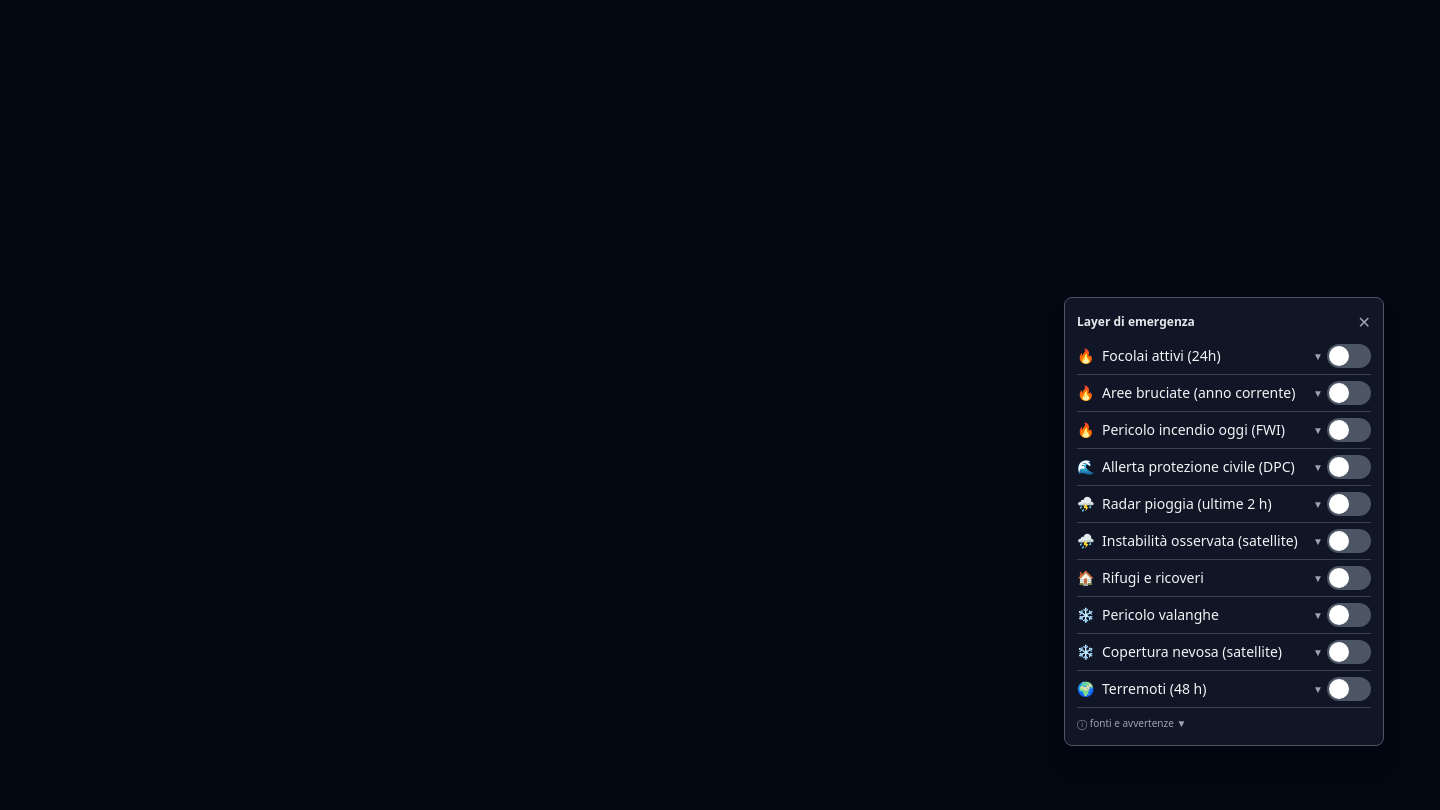
Scenario: EmergencyLayersPanel › footer mostra le fonti attive dei layer accesi
Click the switch named "Focolai attivi (24h)" at (1349,356), box [1327,344,1371,368]
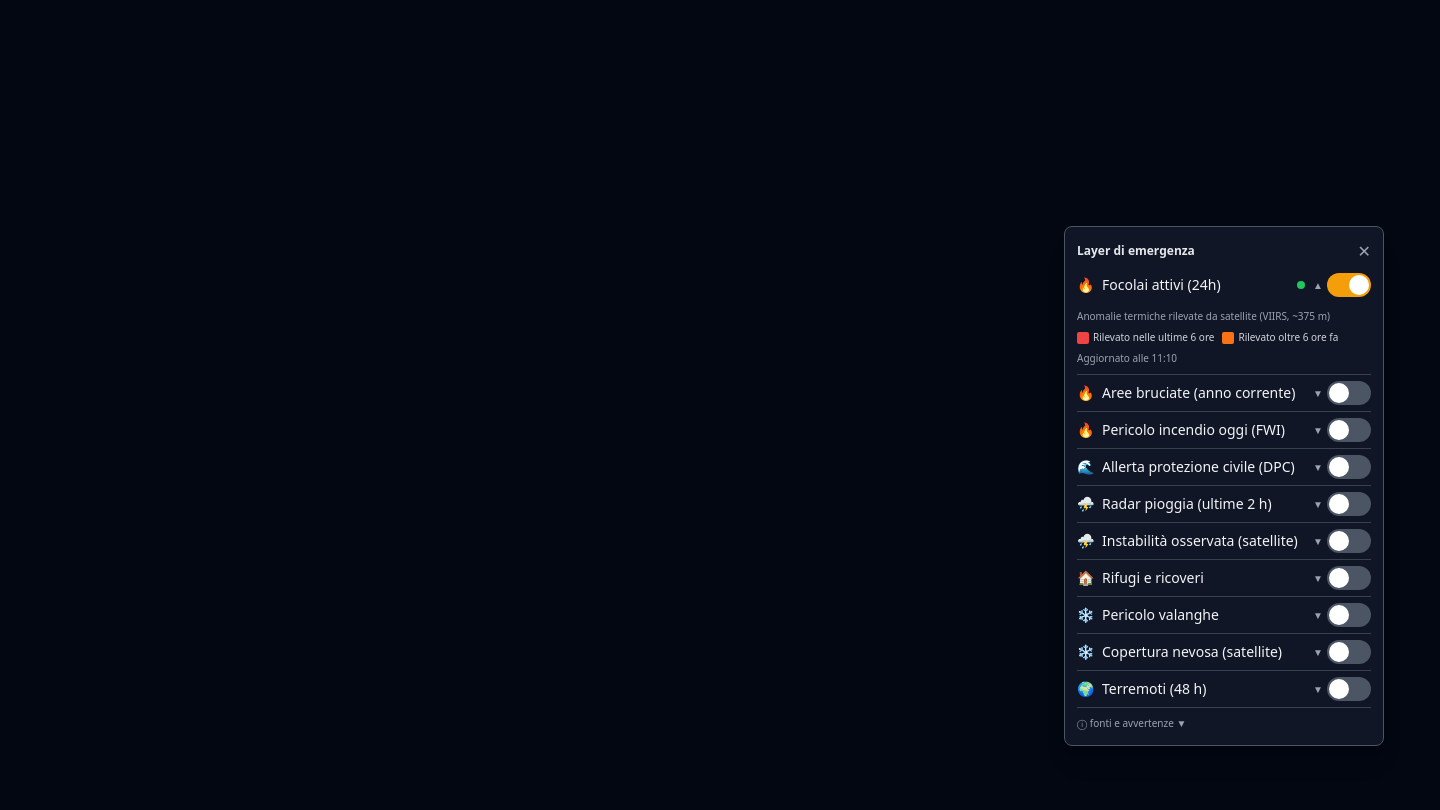
Click the button "ⓘ fonti e avvertenze ▼" at (1127,723), box [1077,716,1371,731]
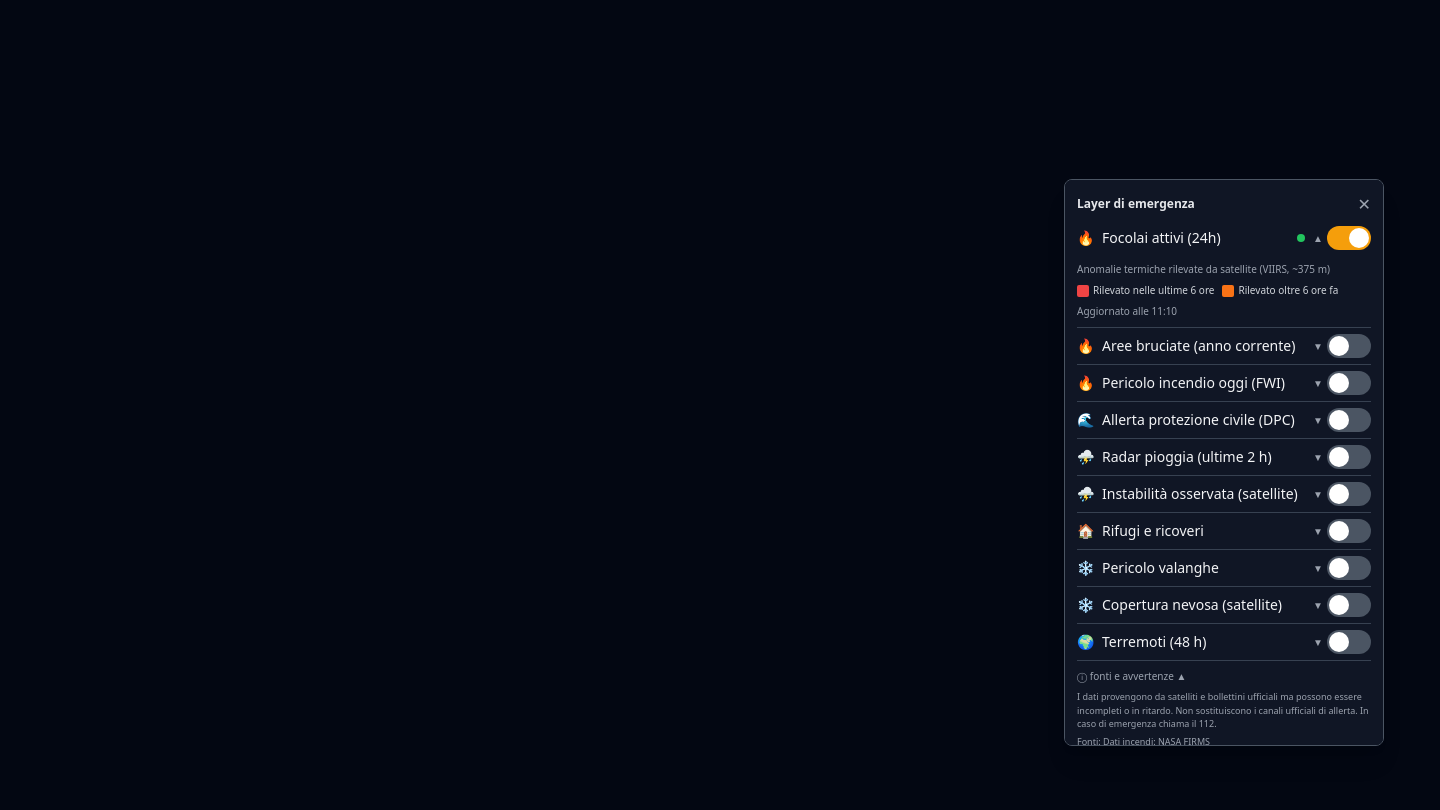
Result: the text "Fonti: Dati incendi: NASA FIRMS" is shown at [1077,734,1210,746]
